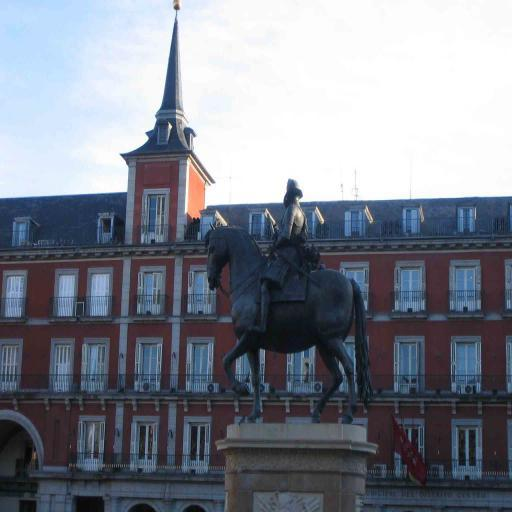Horse: (202, 216, 373, 425)
